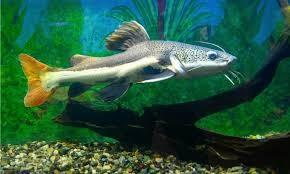Pangasius: (13, 20, 247, 109)
